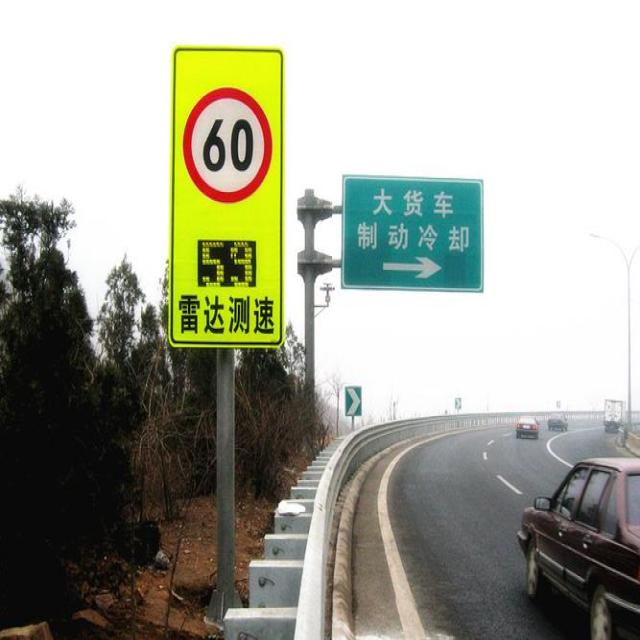speed limit 60: (182, 88, 273, 204)
